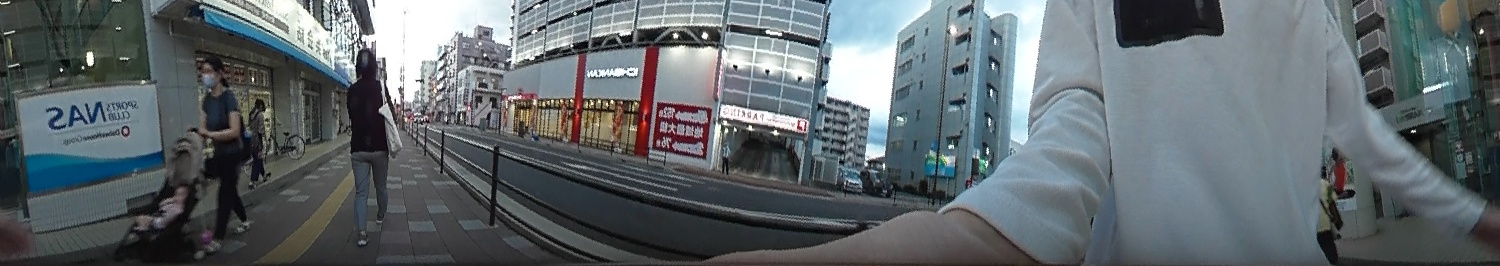difficult_person: (718, 139, 733, 177)
person: (185, 52, 255, 255), (333, 44, 399, 252), (1310, 164, 1346, 264), (246, 92, 275, 185)
